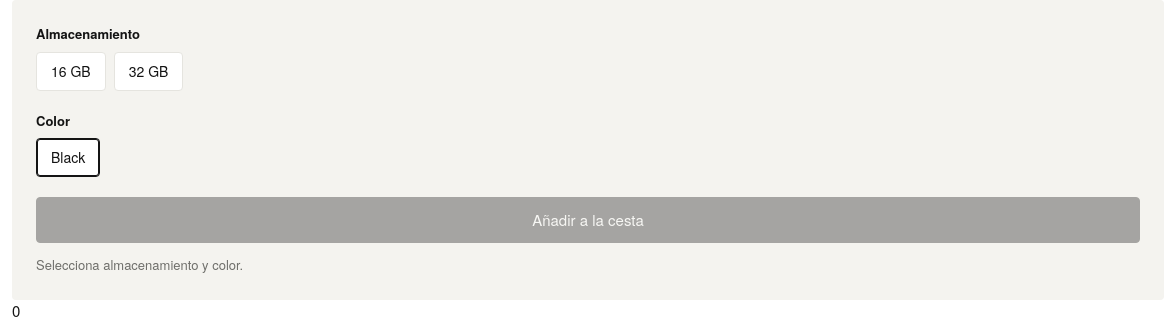
Test: ProductActions › con varias opciones no deja añadir hasta elegir
Expected: the button "Añadir a la cesta" is disabled, 36,197 -> 1140,243
Click the radio button labelled "32 GB" at (149, 71), box 114,52 -> 183,90
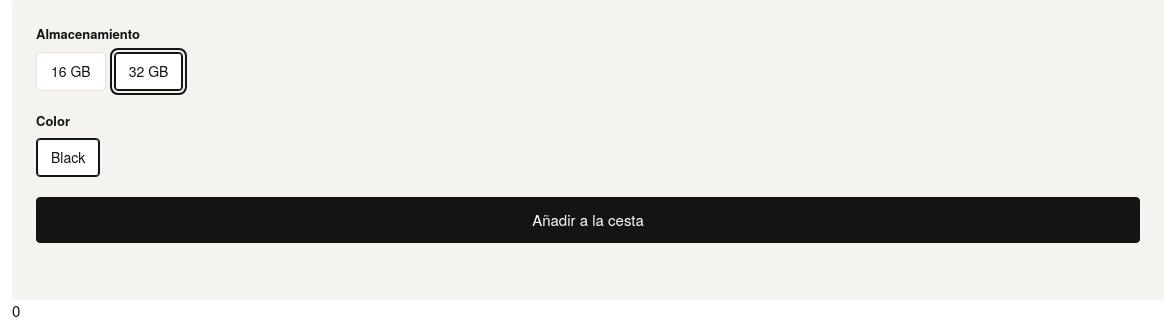
Expected: the button "Añadir a la cesta" is enabled, 36,197 -> 1140,243
